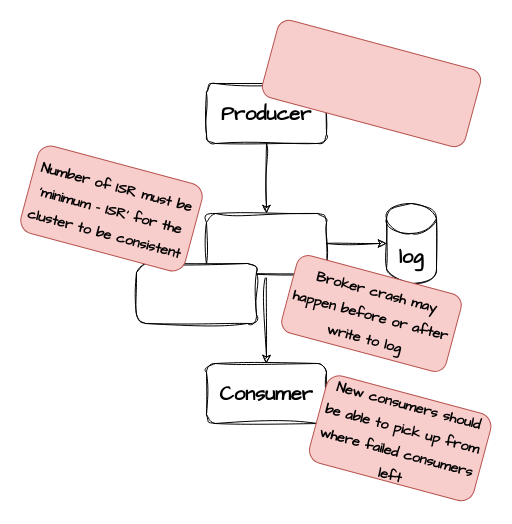
Some shapes in this 512 by 524 pixel diagram are drawn without their labels. Here are the shapes that lost their labels. From the top down, the centre of each, then its label:
[371,83]: How does client know if message was written to log if no ack is received?
[266,243]: Broker (leader)
[196,293]: Broker (follower)
